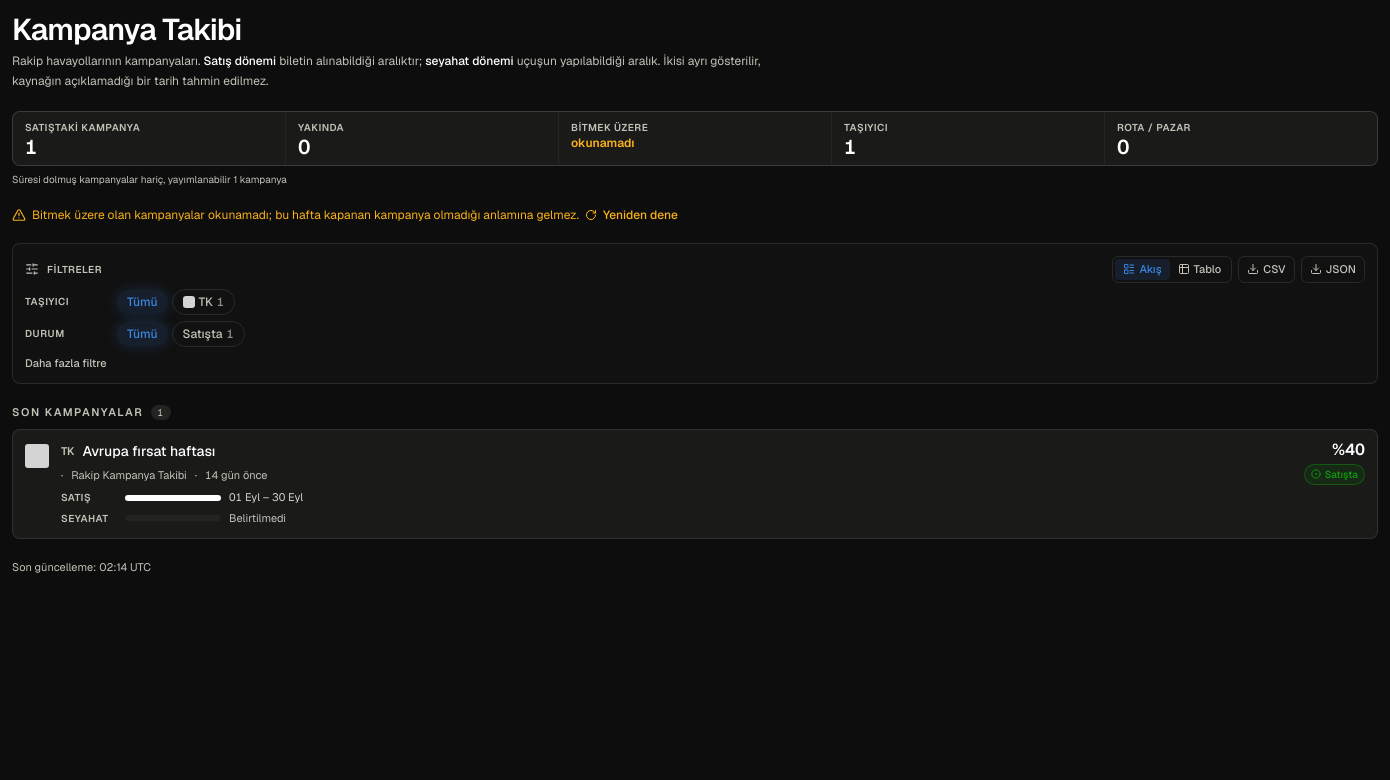
Test: CampaignsClient › refuses to print 'Bitmek üzere: 0' when that source did not answer
Check: the text "Bitmek üzere olan kampanyalar okunamadı" is shown, box [32,207,579,223]
Click the button "Yeniden dene".
click(631, 215)  # box [585,207,678,223]
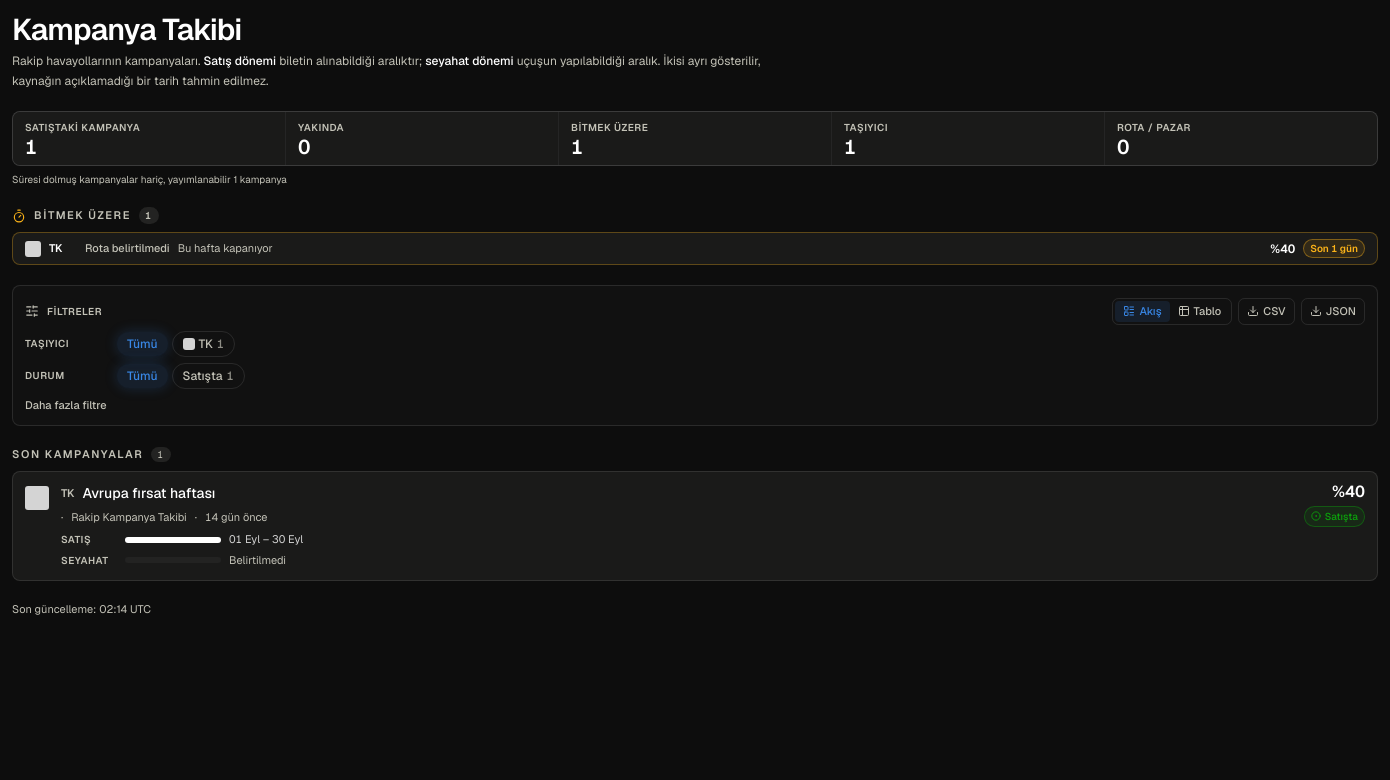
Check: the element named "Bitmek üzere olan kampanyalar" is shown, box [12,207,1378,265]
